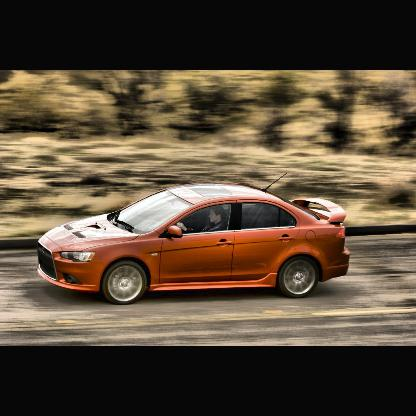Mitsubishi Lancer Sedan 2012: (36, 171, 352, 308)
